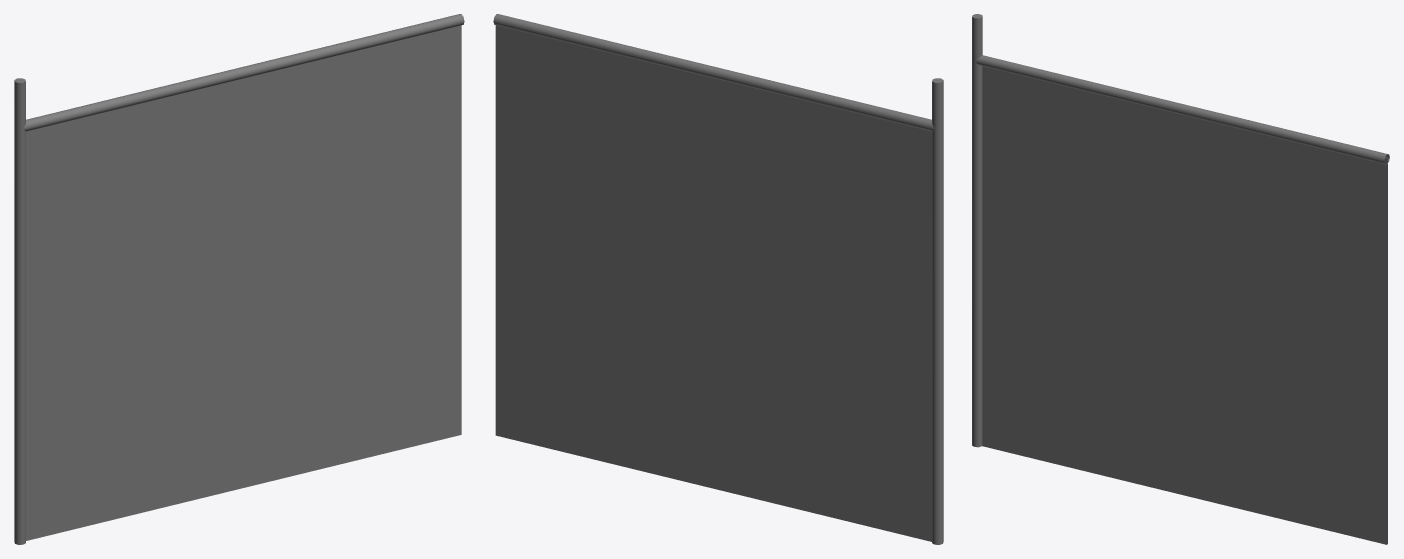
The model's file is Fence_WireEnd.FBX.
The picture shows the model from 3 angles, left to right: view 1: azimuth 30°, elevation 25°; view 2: azimuth 150°, elevation 25°; view 3: azimuth 330°, elevation 25°; orthographic projection. The views are drawn at different scales.
Parts seen in each view (by area): view 1: Fence_WireEnd; view 2: Fence_WireEnd; view 3: Fence_WireEnd.
Boxes of the visible parts, bbox=[...] form: Fence_WireEnd: bbox=[14, 14, 464, 544]; Fence_WireEnd: bbox=[493, 14, 943, 544]; Fence_WireEnd: bbox=[972, 14, 1389, 544].
Size of the model in its own units: 2.59 by 2.56 by 0.06.
